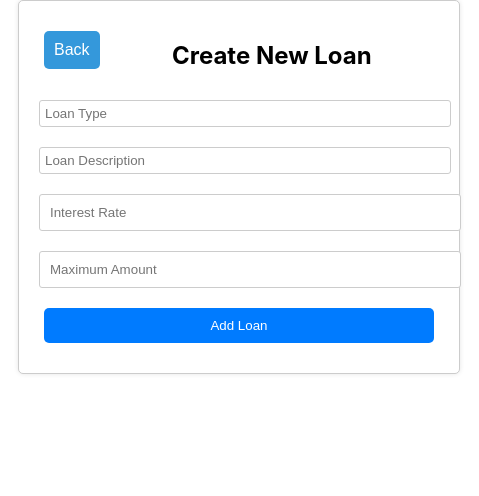
LoanForm Component › loanform_should_handle_adding_a_new_loan_with_successmessage
Simulate user input for adding a new loan
Type "Car Loan" into the field with placeholder "Loan Type" at (245, 113), box [39, 100, 451, 127]
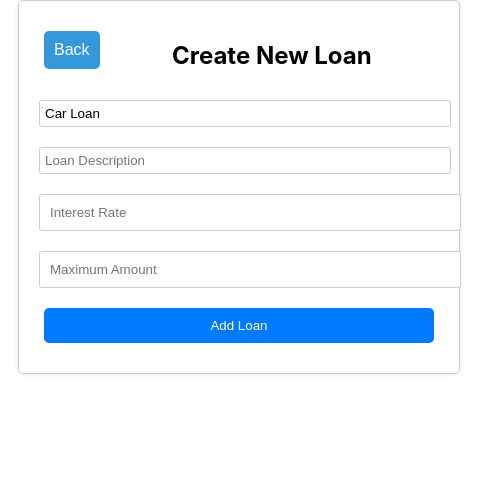
Type "Loan for cars" into the field with placeholder "Loan Description" at (245, 160), box [39, 147, 451, 174]
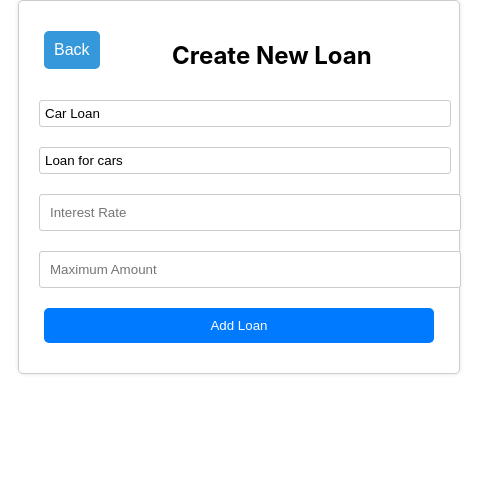
Type "5" into the number field with placeholder "Interest Rate" at (250, 212), box [39, 194, 461, 231]
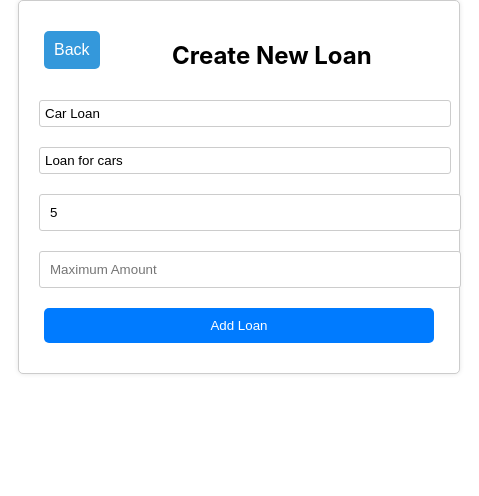
Type "2000" into the number field with placeholder "Maximum Amount" at (250, 269), box [39, 251, 461, 288]
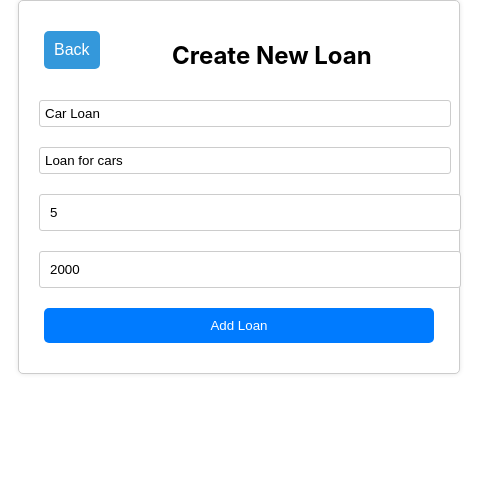
Click the button "Add Loan" at (239, 325), box [44, 308, 434, 343]
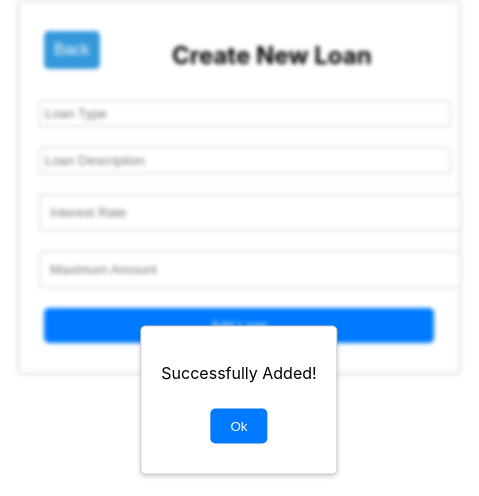
Check: the text "Successfully Added!" is shown, box [161, 362, 317, 382]
